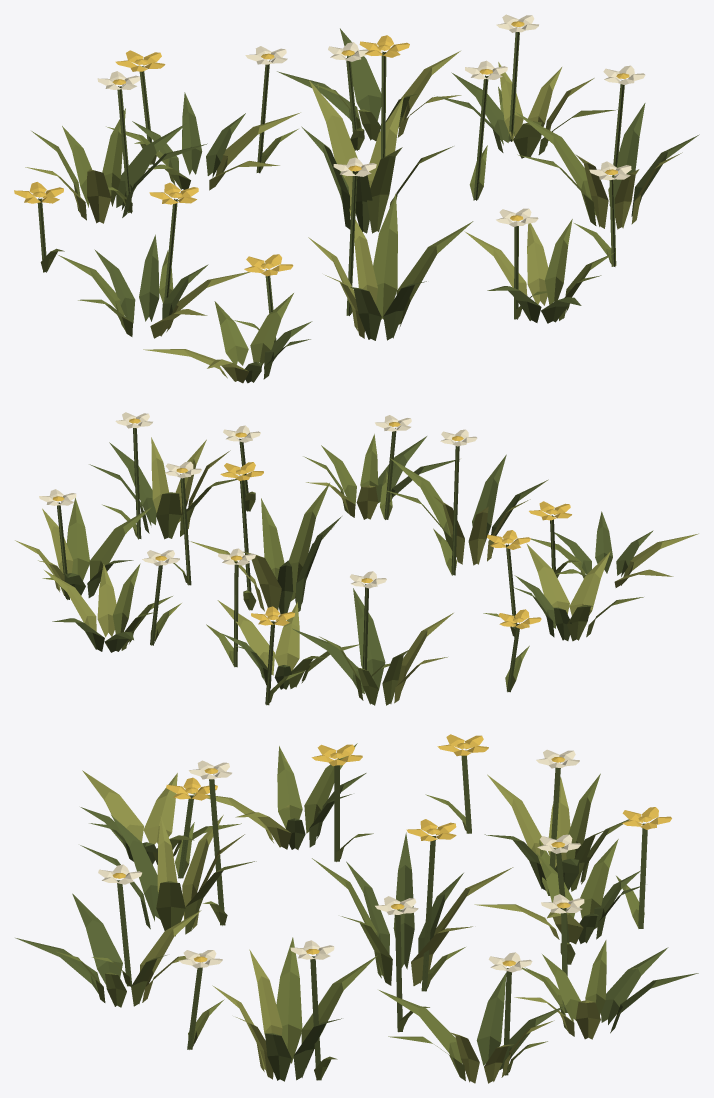
Rendered from meadow-patch.glb.
The picture shows the model from 3 angles, top to bottom: view 1: azimuth 30°, elevation 25°; view 2: azimuth 150°, elevation 25°; view 3: azimuth 270°, elevation 25°; orthographic projection. The views are drawn at different scales.
Parts seen in each view (by area): view 1: meadow-patch; view 2: meadow-patch; view 3: meadow-patch.
Boxes of the visible parts, x1=… form: meadow-patch: x1=14, y1=14, x2=699, y2=383; meadow-patch: x1=15, y1=412, x2=698, y2=705; meadow-patch: x1=15, y1=734, x2=698, y2=1083.
Bounding box in the file's own units: 2.43 × 0.605 × 2.28.
1 material, 1 textured.
